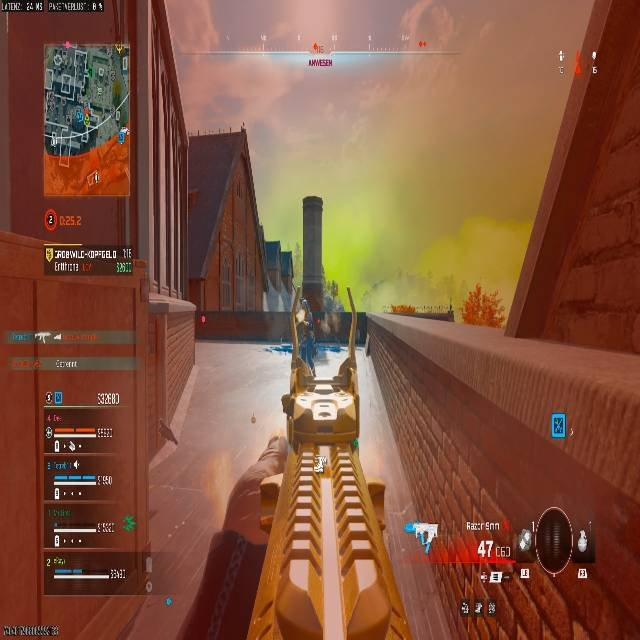player: (42, 47, 119, 157)
